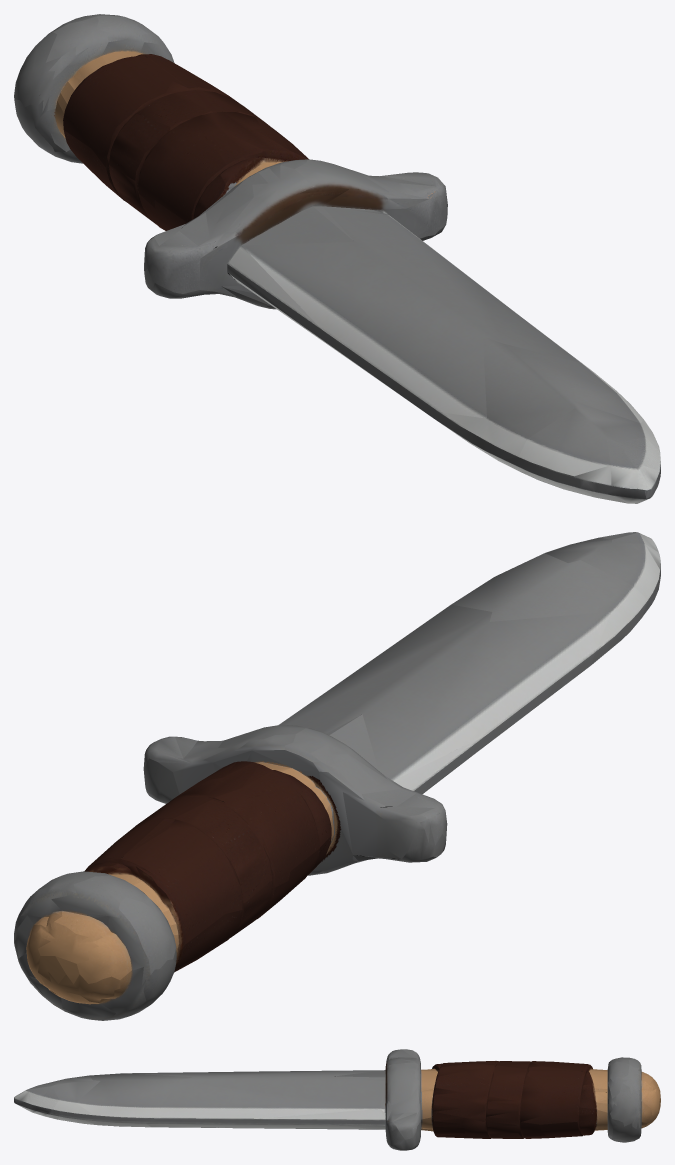
The picture shows the model from 3 angles, top to bottom: view 1: azimuth 30°, elevation 25°; view 2: azimuth 150°, elevation 25°; view 3: azimuth 270°, elevation 25°; orthographic projection. The views are drawn at different scales.
Visible parts, largest first — view 1: db_g1_L; view 2: db_g1_L; view 3: db_g1_L.
Boxes of the visible parts, x1=… form: db_g1_L: x1=14, y1=14, x2=660, y2=503; db_g1_L: x1=14, y1=532, x2=660, y2=1020; db_g1_L: x1=14, y1=1049, x2=660, y2=1150.
Bounding box in the file's own units: 52.4 × 23.17 × 180.
Materials: 1 (1 with a texture image).
